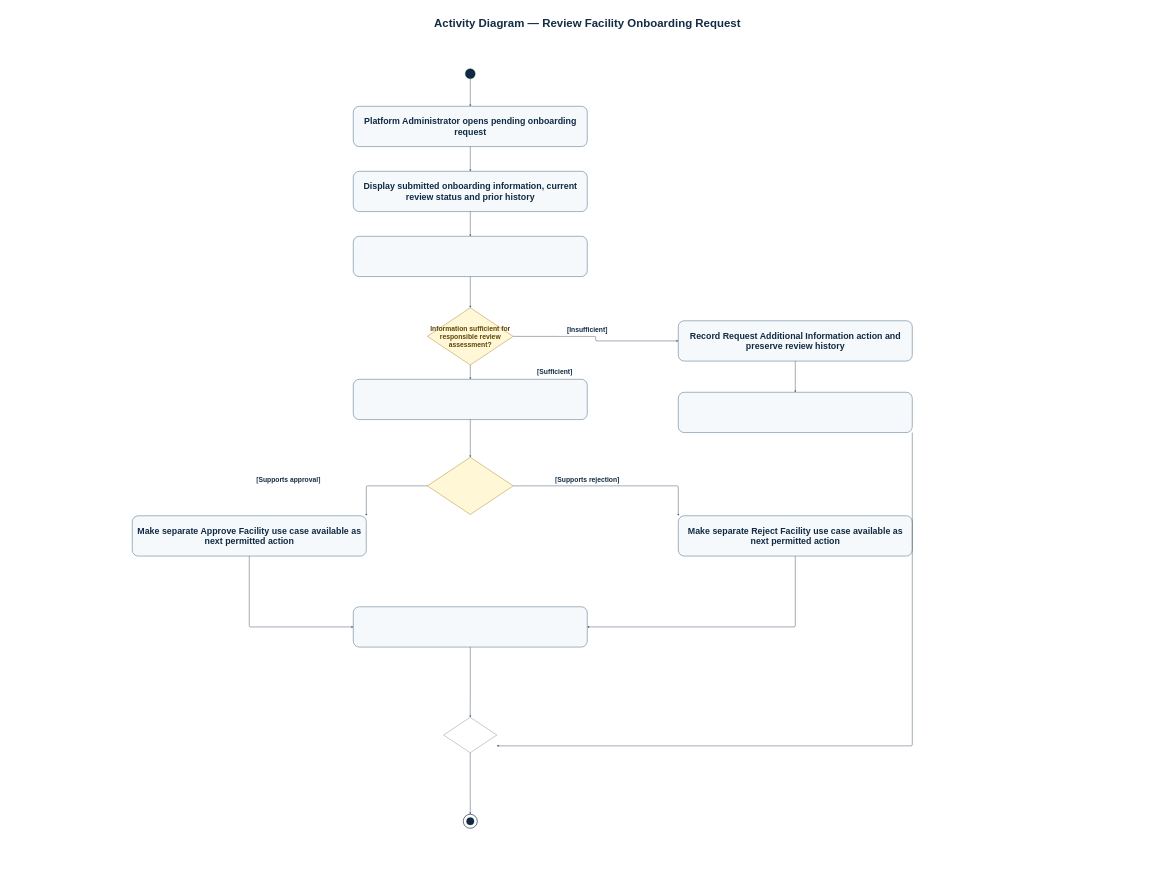
This 1174x888 diagram has some shape labels left out. The shapes that lost their labels are listed below. From the top down, each one's centre as x and y in pixels, then its label:
At [470,256]: "Platform Administrator evaluates available information".
At [470,399]: "Platform Administrator records review assessment".
At [795,412]: "Keep onboarding unresolved pending additional information".
At [470,486]: "Assessment outcome?".
At [470,627]: "Preserve documented review result / history and complete review step".
